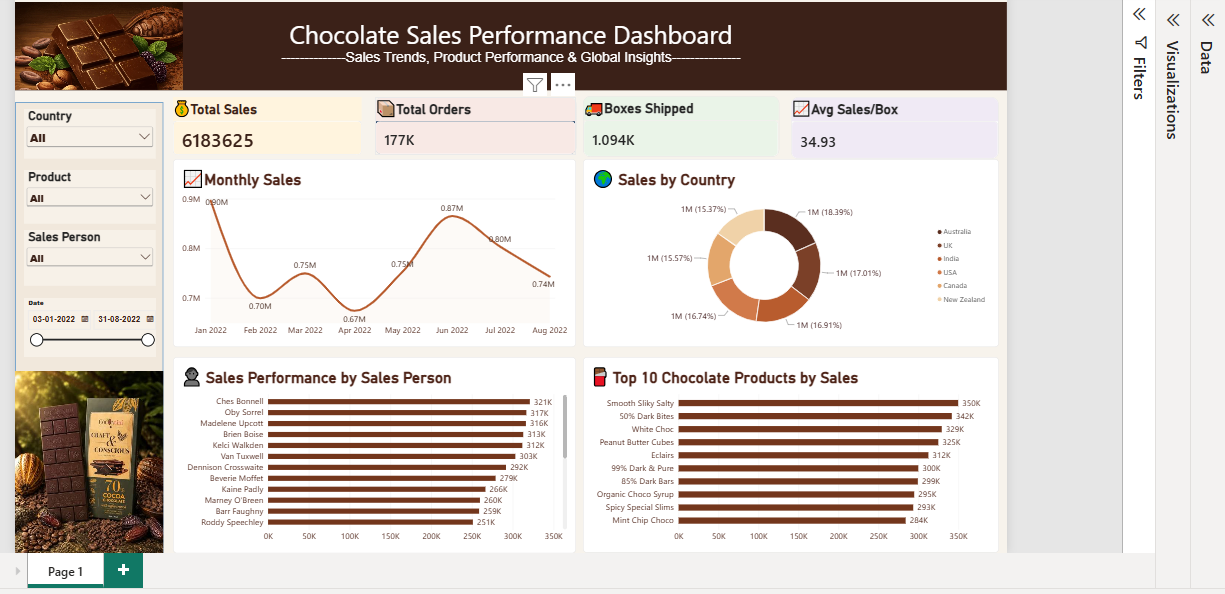

This screenshot's page, from the dashboard's own definition file:
{"tool":"powerbi","page":{"name":"Page 1","canvas":[1920,1080],"ordinal":0},"visuals":[{"type":"shape","box":[0,206.2,287,873.8],"z":0},{"type":"slicer","fields":{"Values":["data.Date"]},"box":[17,586.8,255.1,112.7],"z":1000},{"type":"lineChart","title":"📈Monthly Sales","fields":{"Category":["data.Date.Variation.Date Hierarchy.Year","data.Date.Variation.Date Hierarchy.Quarter","data.Date.Variation.Date Hierarchy.Month"],"Y":["Sum(data.Amount)"]},"box":[305.8,317.4,780,363.9],"z":2000},{"type":"donutChart","title":"🌍 Sales by Country","fields":{"Category":["data.Country"],"Y":["Sum(data.Amount)"]},"box":[1099.4,317.4,805.2,363.9],"z":3000},{"type":"clusteredBarChart","title":"🍫 Top 10 Chocolate Products by Sales","fields":{"Category":["data.Product"],"Y":["Sum(data.Amount)"]},"box":[1099.4,700.6,805.2,379.4],"z":4000},{"type":"clusteredBarChart","title":"👤 Sales Performance by Sales Person","fields":{"Category":["data.Sales Person"],"Y":["Sum(data.Amount)"]},"box":[306.1,700,779.6,379.6],"z":5000},{"type":"slicer","fields":{"Values":["data.Product"]},"box":[17,338,255.1,104.2],"z":6000},{"type":"slicer","fields":{"Values":["data.Sales Person"]},"box":[17,455,255.1,108.4],"z":7000},{"type":"shape","box":[0,12.8,1919.8,171],"z":8000},{"type":"textbox","box":[0,42.5,1919.8,95.7],"z":9000},{"type":"image","box":[0,12.8,325.3,170.1],"z":10000},{"type":"slicer","fields":{"Values":["data.Country"]},"box":[17,221.1,255.1,95.7],"z":11000},{"type":"image","box":[0,727.1,287,352.9],"z":12000},{"type":"cardVisual","title":"🚚Boxes Shipped","fields":{"Data":["CountNonNull(data.Sales Person)"]},"box":[1100,195.9,379.6,118.4],"z":13000},{"type":"cardVisual","title":"📦Total Orders","fields":{"Data":["Sum(data.Boxes Shipped)"]},"box":[695.9,198,389.8,112.2],"z":14000},{"type":"cardVisual","title":"📈Avg Sales/Box","fields":{"Data":["data.Avg Sales Per Box"]},"box":[1502,198,402,120.4],"z":15000},{"type":"cardVisual","title":"💰Total Sales","fields":{"Data":["Sum(data.Amount)"]},"box":[306.1,198,365.3,112.2],"z":16000}]}

Visuals, with their boxes on the page's 1920x1080 design canvas (x1, y1, x2, y2). These are canvas units, not pixel positions in the 1225x594 screenshot, which may show the page scaled, cropped or inside an application window:
shape: crop(0, 206, 287, 1080)
slicer - data.Date: crop(17, 587, 272, 700)
"📈Monthly Sales" lineChart: crop(306, 317, 1086, 681)
"🌍 Sales by Country" donutChart: crop(1099, 317, 1905, 681)
"🍫 Top 10 Chocolate Products by Sales" clusteredBarChart: crop(1099, 701, 1905, 1080)
"👤 Sales Performance by Sales Person" clusteredBarChart: crop(306, 700, 1086, 1080)
slicer - data.Product: crop(17, 338, 272, 442)
slicer - data.Sales Person: crop(17, 455, 272, 563)
shape: crop(0, 13, 1920, 184)
textbox: crop(0, 42, 1920, 138)
image: crop(0, 13, 325, 183)
slicer - data.Country: crop(17, 221, 272, 317)
image: crop(0, 727, 287, 1080)
"🚚Boxes Shipped" cardVisual: crop(1100, 196, 1480, 314)
"📦Total Orders" cardVisual: crop(696, 198, 1086, 310)
"📈Avg Sales/Box" cardVisual: crop(1502, 198, 1904, 318)
"💰Total Sales" cardVisual: crop(306, 198, 671, 310)
